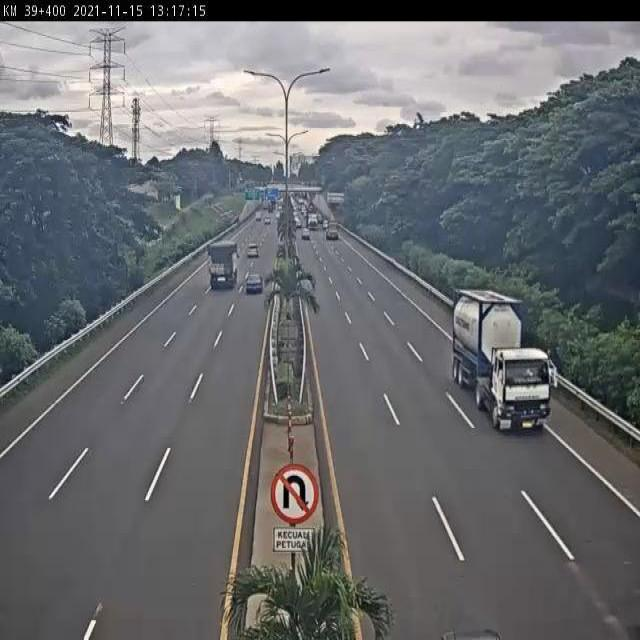car: (243, 268, 265, 296)
truck-l-: (206, 238, 241, 294)
truck-xl-: (453, 285, 558, 436)
